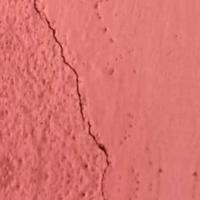crack: (32, 1, 116, 197)
